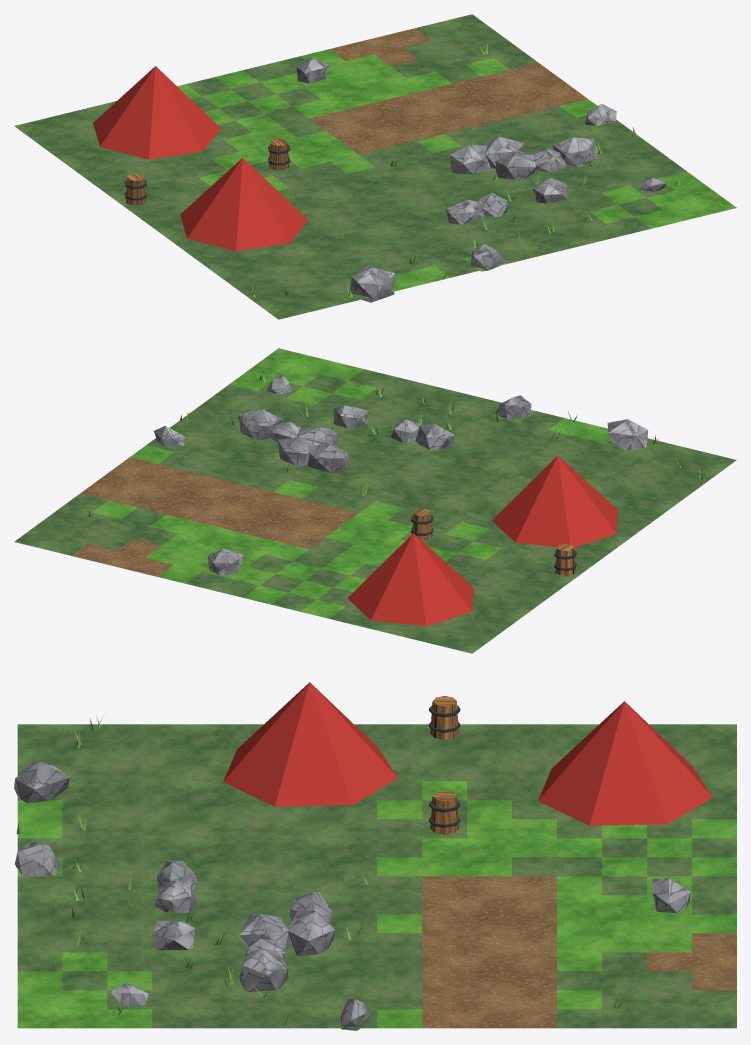
File: chunk_10_15.glb
3 renders of one model, top to bottom at view 1: azimuth 30°, elevation 25°; view 2: azimuth 150°, elevation 25°; view 3: azimuth 270°, elevation 25°, orthographic. The views are drawn at different scales.
Parts seen in each view (by area): view 1: chunk_10_15; view 2: chunk_10_15; view 3: chunk_10_15.
Part boxes in pixels (x1,y1,x2,y2): chunk_10_15: (14, 14, 736, 319); chunk_10_15: (14, 348, 736, 653); chunk_10_15: (14, 682, 736, 1030).
Bounding box in the file's own units: 16.08 × 2.72 × 16.08.
Materials: 8 (5 with a texture image).
